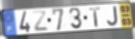3: (68, 7, 83, 30)
4: (19, 11, 31, 34)
7: (51, 7, 65, 32)
J: (106, 5, 120, 27)
T: (88, 6, 102, 28)
Z: (31, 11, 49, 33)
